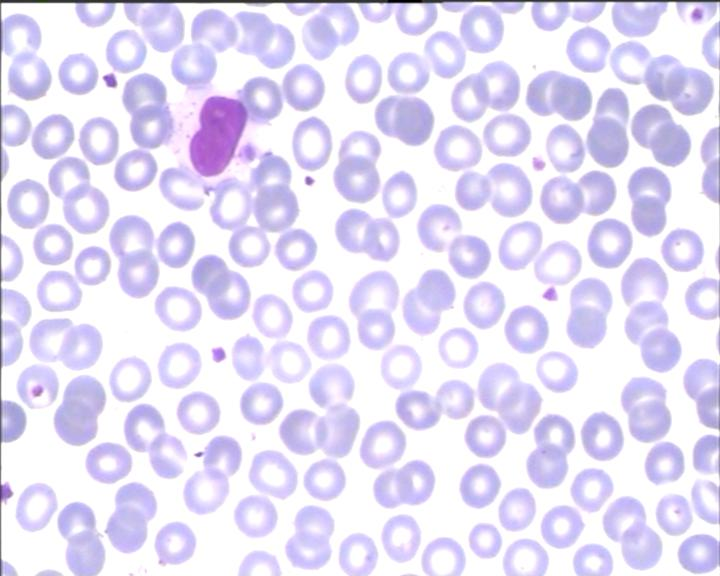mono: (163, 78, 268, 193)
